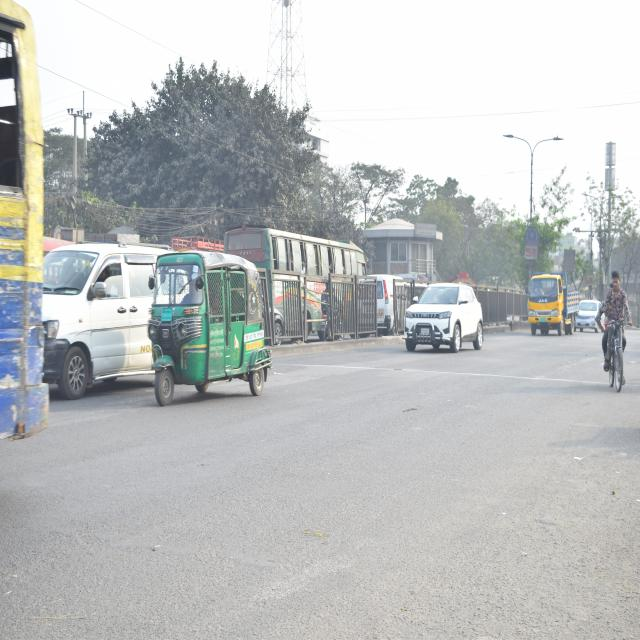bus: (253, 225, 354, 342)
car: (39, 241, 159, 396), (403, 282, 490, 360), (577, 292, 598, 336)
pickup-van: (520, 265, 580, 343)
